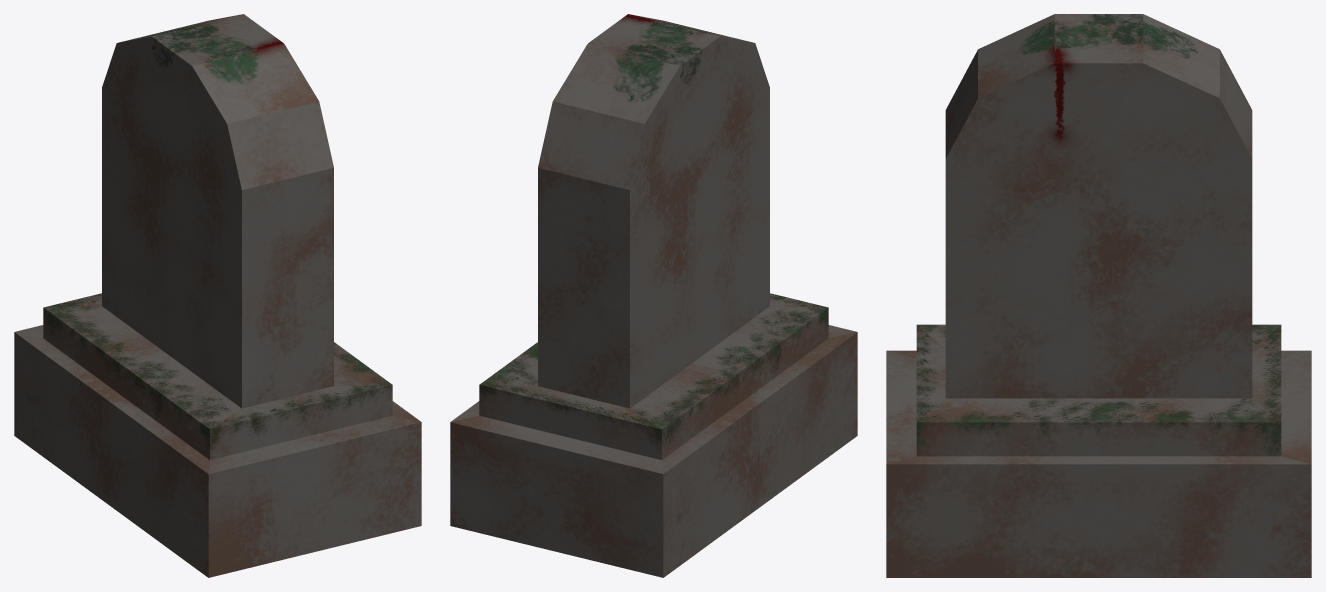
Rendered from gravestone_1.fbx.
3 renders of one model, left to right at view 1: azimuth 30°, elevation 25°; view 2: azimuth 150°, elevation 25°; view 3: azimuth 270°, elevation 25°, orthographic. The views are drawn at different scales.
Visible parts, largest first — view 1: Cube; view 2: Cube; view 3: Cube.
Part boxes in pixels (<box>): Cube: <box>14,14,421,577</box>; Cube: <box>450,14,857,577</box>; Cube: <box>886,14,1311,577</box>.
Bounding box in the file's own units: 200 × 395 × 316.
